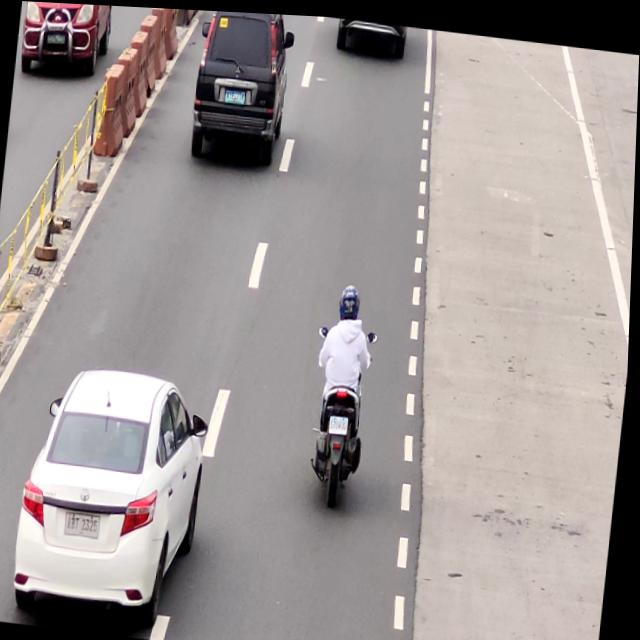Car: (17, 359, 215, 617), (186, 8, 293, 165)
License-Plate: (66, 512, 107, 543), (224, 84, 247, 105), (331, 413, 353, 431)
Motorcycle: (309, 276, 381, 510)
